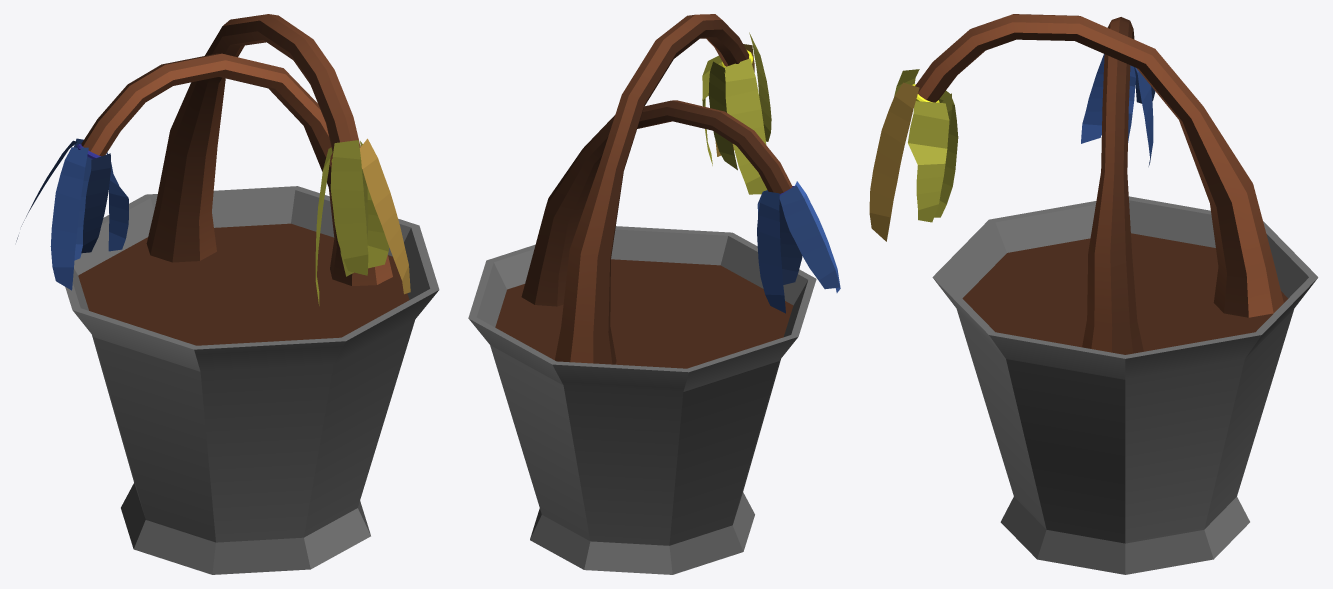
The model's file is Flowers.fbx.
The picture shows the model from 3 angles, left to right: view 1: azimuth 30°, elevation 25°; view 2: azimuth 150°, elevation 25°; view 3: azimuth 270°, elevation 25°; orthographic projection. The views are drawn at different scales.
Parts seen in each view (by area): view 1: Flower; view 2: Flower; view 3: Flower.
Boxes of the visible parts, bbox=[...] form: Flower: bbox=[16, 14, 439, 574]; Flower: bbox=[468, 14, 840, 574]; Flower: bbox=[869, 14, 1318, 574].
Bounding box in the file's own units: 77.25 × 97.44 × 78.12.
